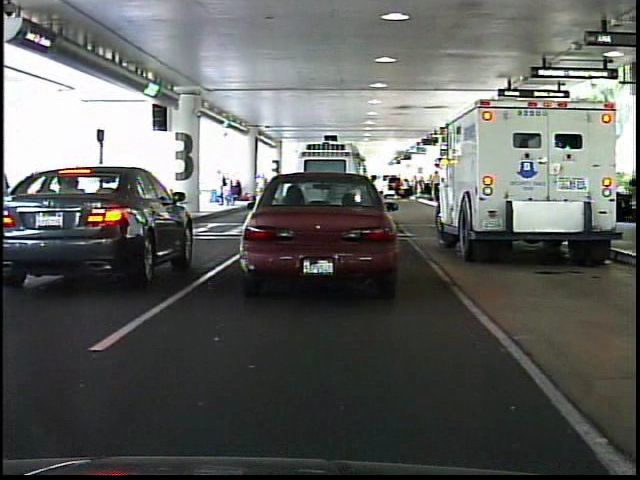person: (253, 172, 270, 208)
